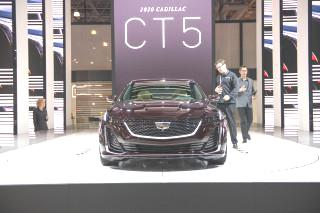cadillac: (154, 120, 174, 132)
